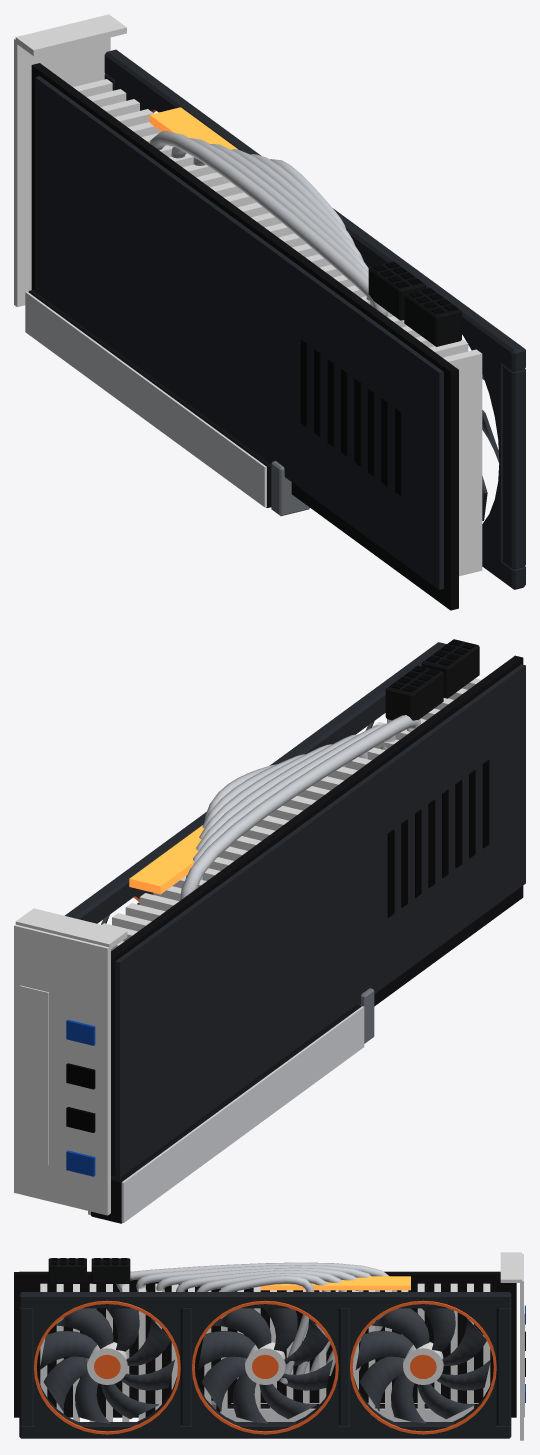
File: hwm_gpu_rtx5090.glb
3 renders of one model, top to bottom at view 1: azimuth 30°, elevation 25°; view 2: azimuth 150°, elevation 25°; view 3: azimuth 270°, elevation 25°, orthographic. The views are drawn at different scales.
Visible parts, largest first — view 1: Card_0, Slot_0; view 2: Card_0, Slot_0; view 3: Card_0, Rotor_X_0, Rotor_X_2, Rotor_X_1, Slot_0.
Part boxes in pixels (x1,y1,x2,y2): Card_0: (14, 14, 525, 610); Slot_0: (25, 289, 309, 516); Card_0: (14, 639, 525, 1215); Slot_0: (88, 988, 374, 1223); Card_0: (14, 1252, 525, 1440); Rotor_X_0: (355, 1308, 490, 1423); Rotor_X_2: (40, 1308, 174, 1423); Rotor_X_1: (197, 1308, 332, 1423); Slot_0: (211, 1400, 477, 1421).
Size of the model in its own units: 0.0375 by 0.1076 by 0.2852.
